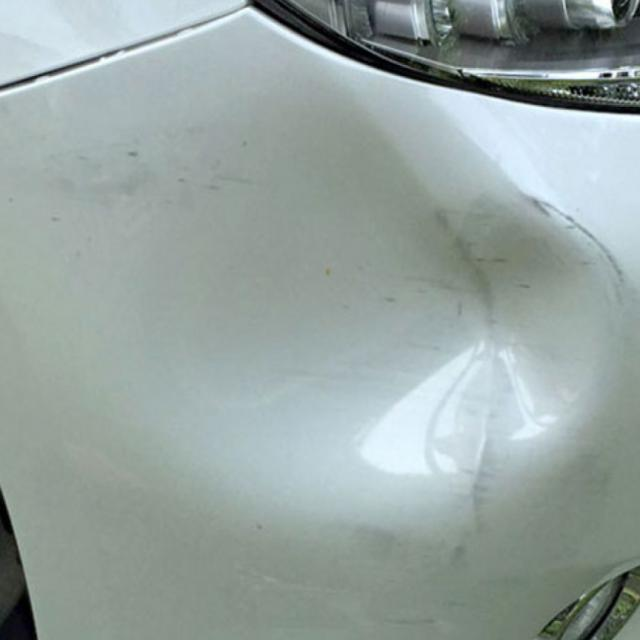dents: (143, 107, 633, 553)
